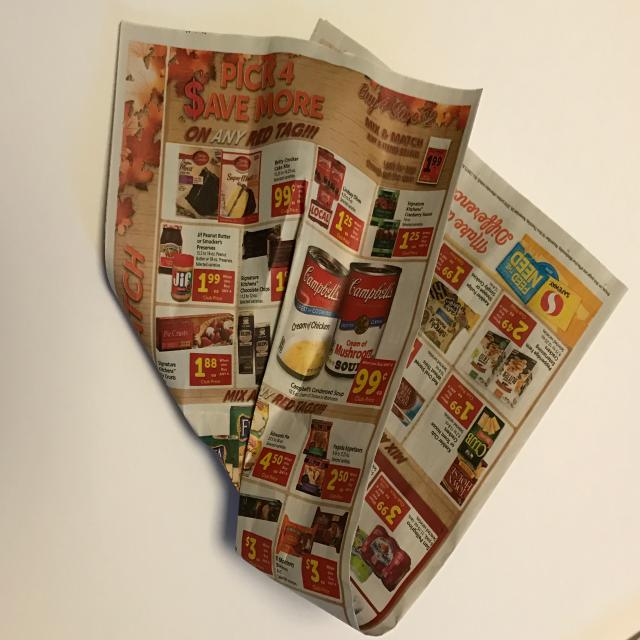Paper: (89, 2, 634, 640)
